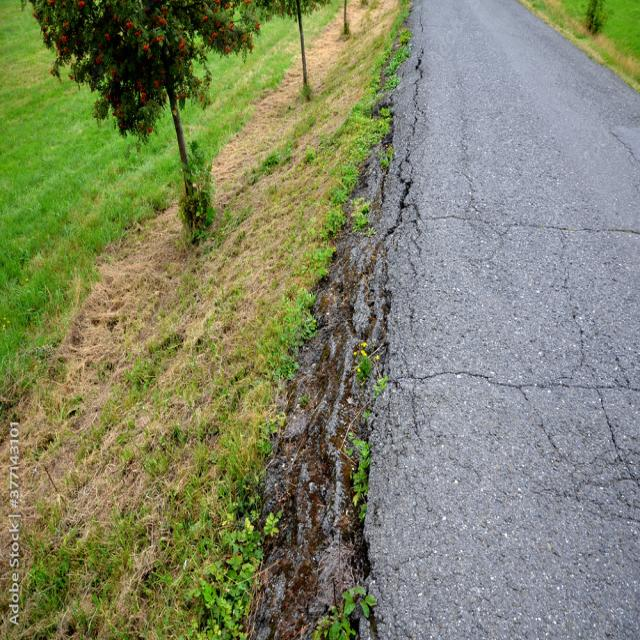Pothole: (124, 115, 486, 616)
